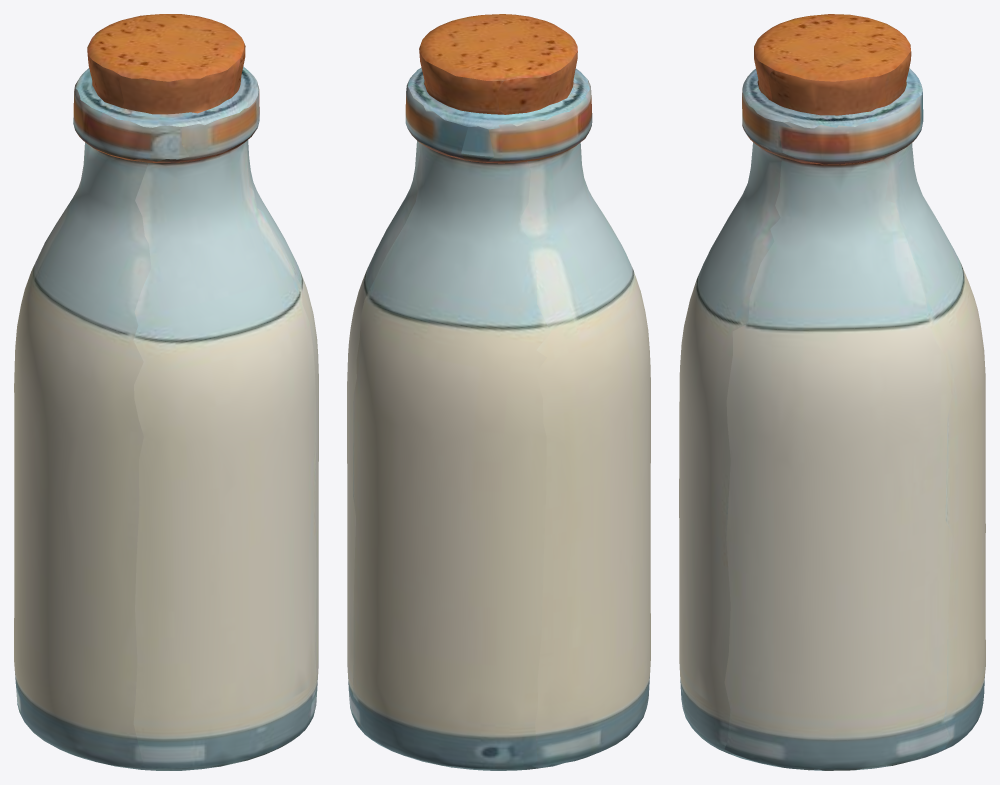
The model's file is milk_m.glb.
3 renders of one model, left to right at view 1: azimuth 30°, elevation 25°; view 2: azimuth 150°, elevation 25°; view 3: azimuth 270°, elevation 25°, orthographic.
Visible parts, largest first — view 1: item_milk_m; view 2: item_milk_m; view 3: item_milk_m.
Part boxes in pixels (left/top/right/bottom): item_milk_m: left=14, top=14, right=318, bottom=770; item_milk_m: left=347, top=14, right=650, bottom=770; item_milk_m: left=679, top=14, right=985, bottom=770.
Size of the model in its own units: 0.4098 by 1 by 0.4164.
1 material, 1 textured.
